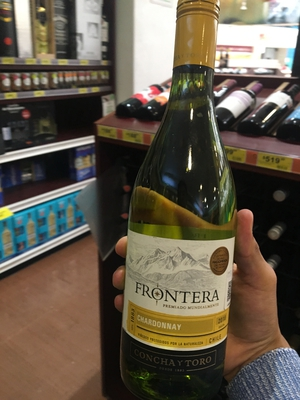frontera chardonnay: (120, 13, 265, 399)
